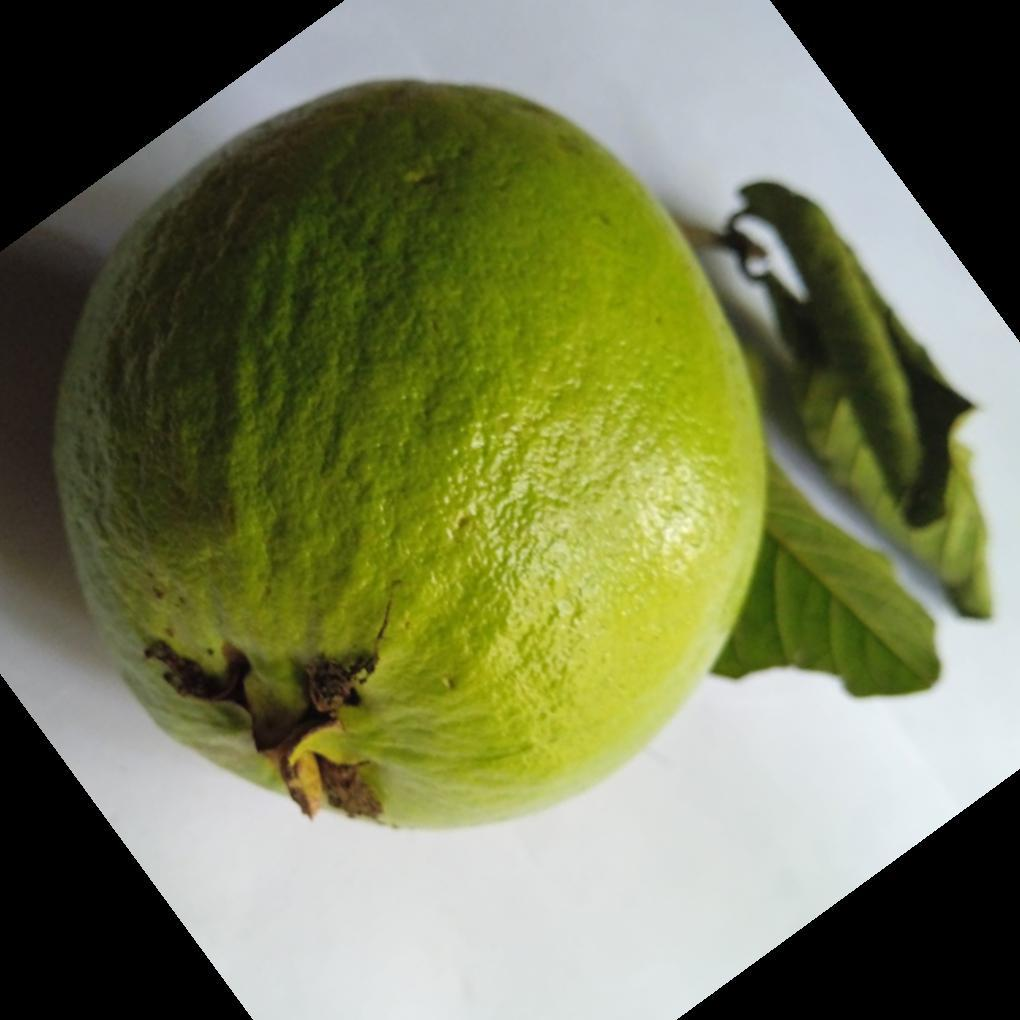FreshGuava: (52, 80, 768, 835)
